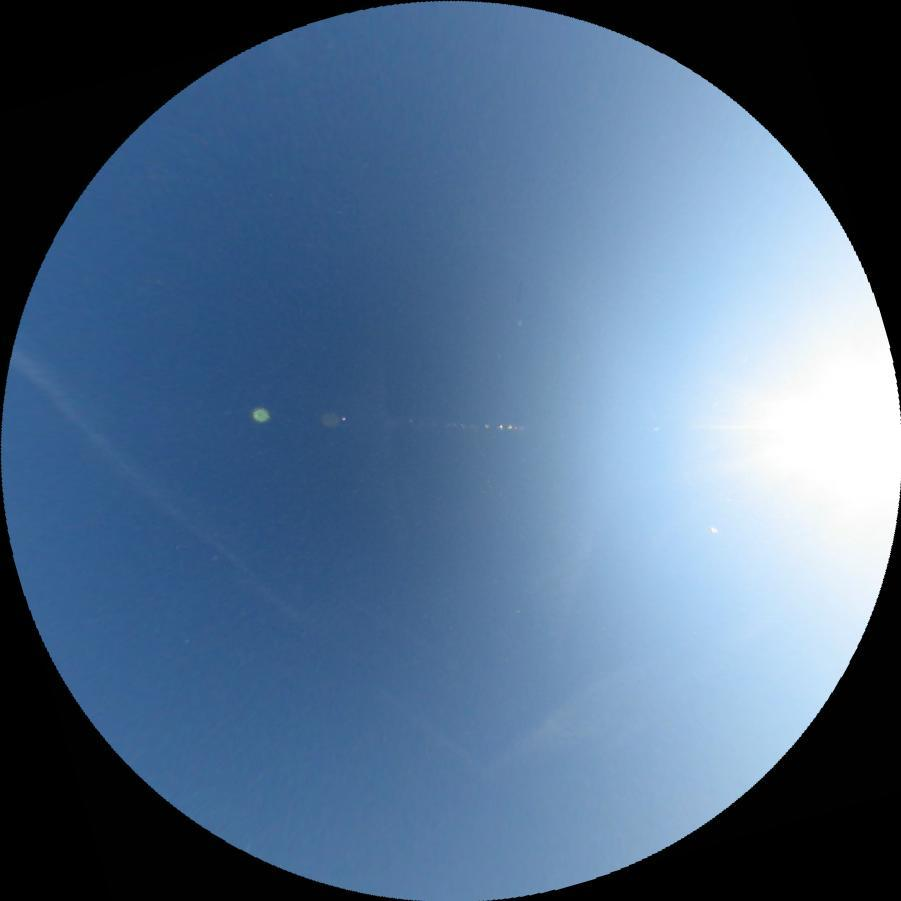contrail veryold: (0, 345, 294, 621)
parasite: (694, 423, 767, 429)
sun: (764, 345, 895, 534)
